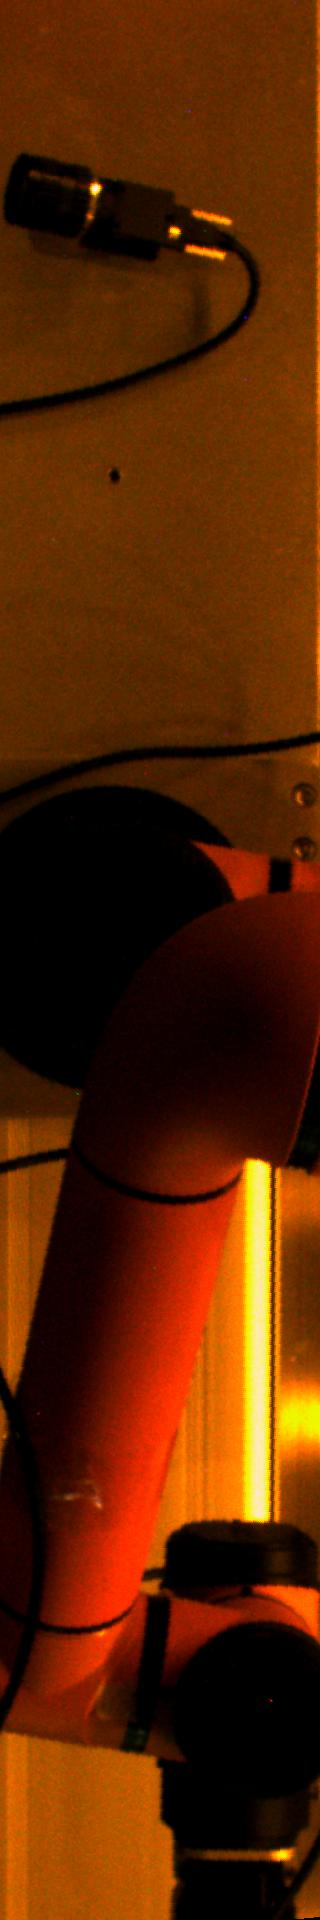keyPoint_2: (99, 462, 129, 492)
